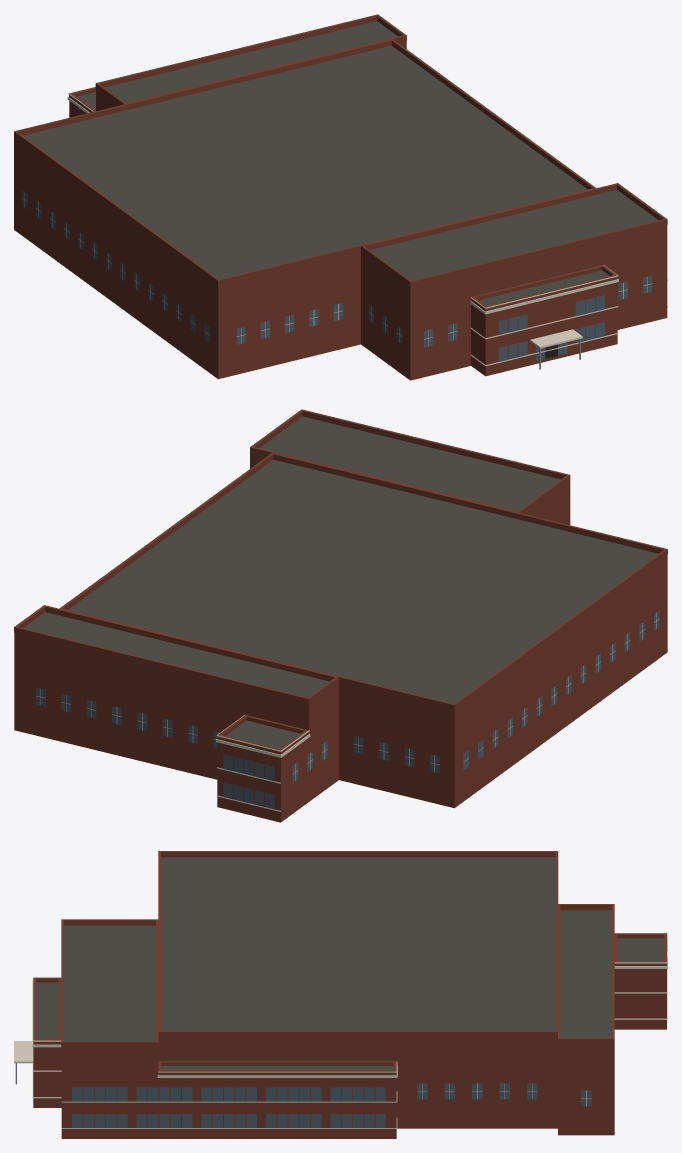
The model's file is lisa-academy-west-1983-building-use-then-unknown-bo65204.glb.
3 renders of one model, top to bottom at view 1: azimuth 30°, elevation 25°; view 2: azimuth 150°, elevation 25°; view 3: azimuth 270°, elevation 25°, orthographic. The views are drawn at different scales.
Visible parts, largest first — view 1: lisa_academy_west_1983_building_use_then_unknown_bo65204; view 2: lisa_academy_west_1983_building_use_then_unknown_bo65204; view 3: lisa_academy_west_1983_building_use_then_unknown_bo65204.
Boxes of the visible parts, box(x1,y1,x2,y2) form: lisa_academy_west_1983_building_use_then_unknown_bo65204: box(14, 14, 667, 380); lisa_academy_west_1983_building_use_then_unknown_bo65204: box(14, 409, 667, 822); lisa_academy_west_1983_building_use_then_unknown_bo65204: box(14, 851, 667, 1138).
Size of the model in its own units: 56.16 by 13.2 by 81.02.
